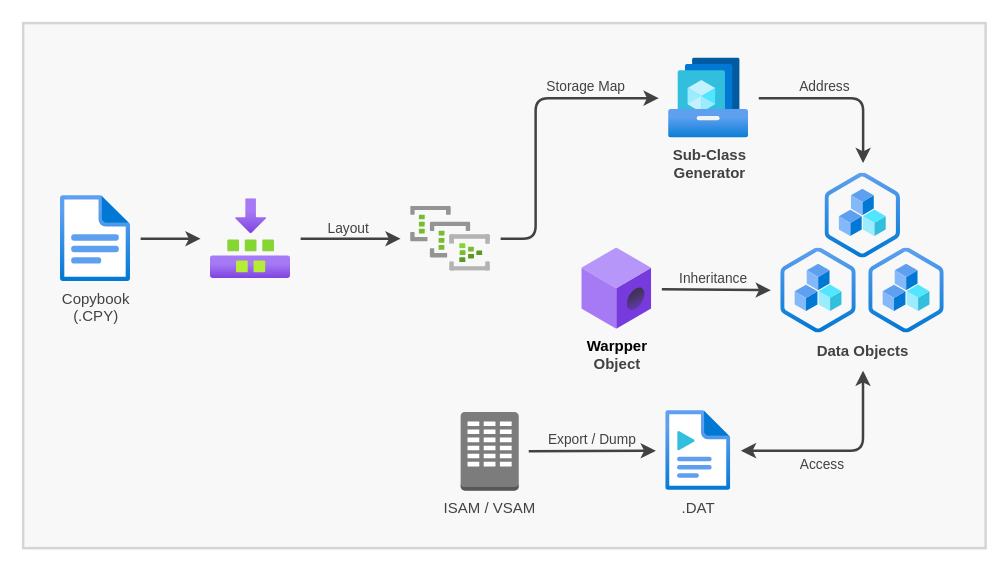
Image size: 1008x570. Some labels were removed from this diagram. The shapes that lost their labels are listed below. From the top down, each one's centre as x and y in pixels, then its label:
At [250,238]: "Compiler".
At [450,238]: "Resolver".
